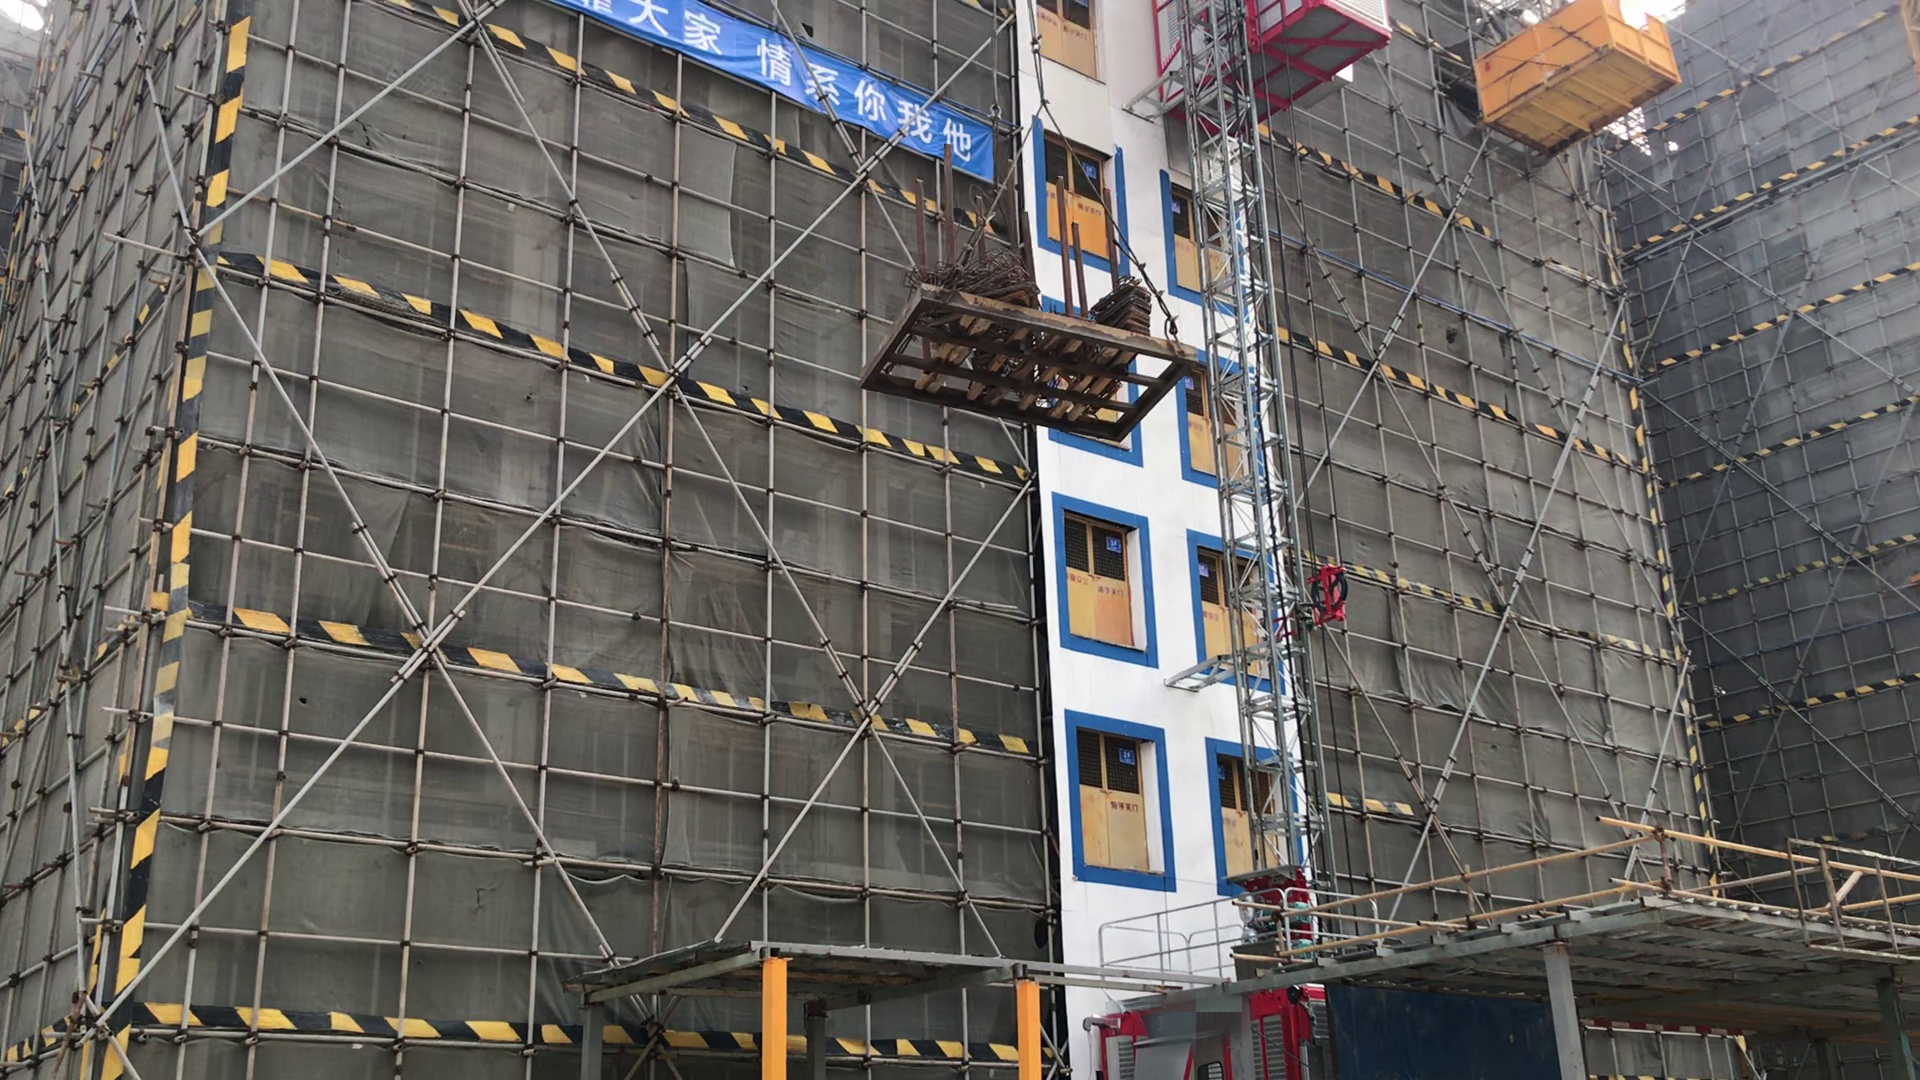slogan: (596, 1, 986, 186)
